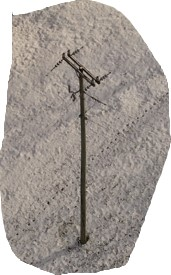pole: (47, 41, 115, 244)
